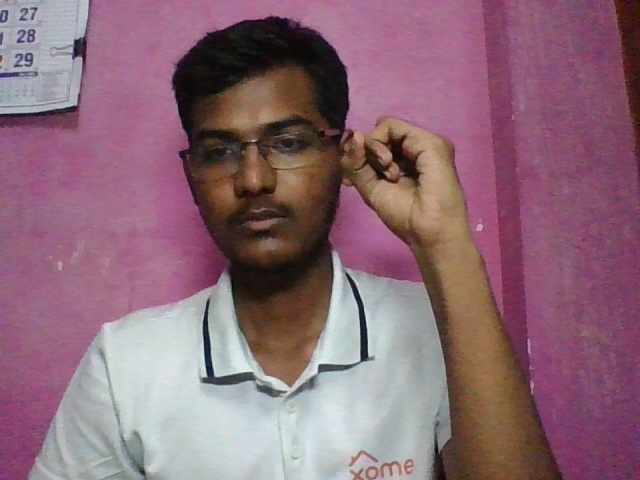Hello: (326, 104, 478, 260)
